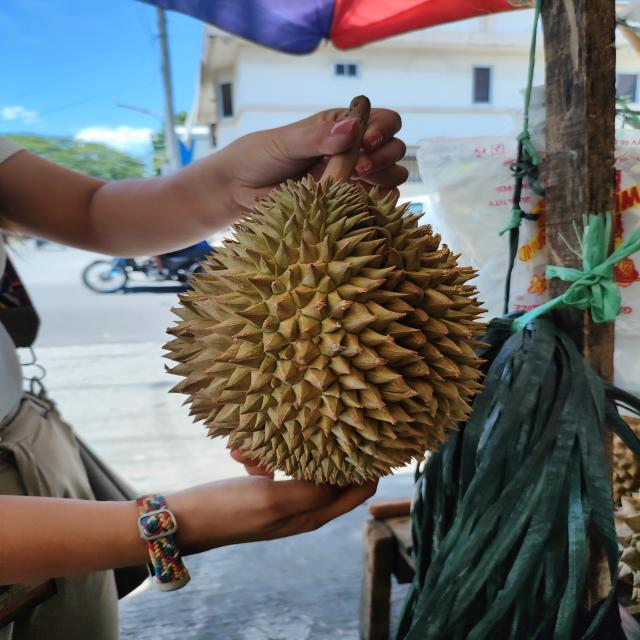mature: (159, 169, 489, 488)
